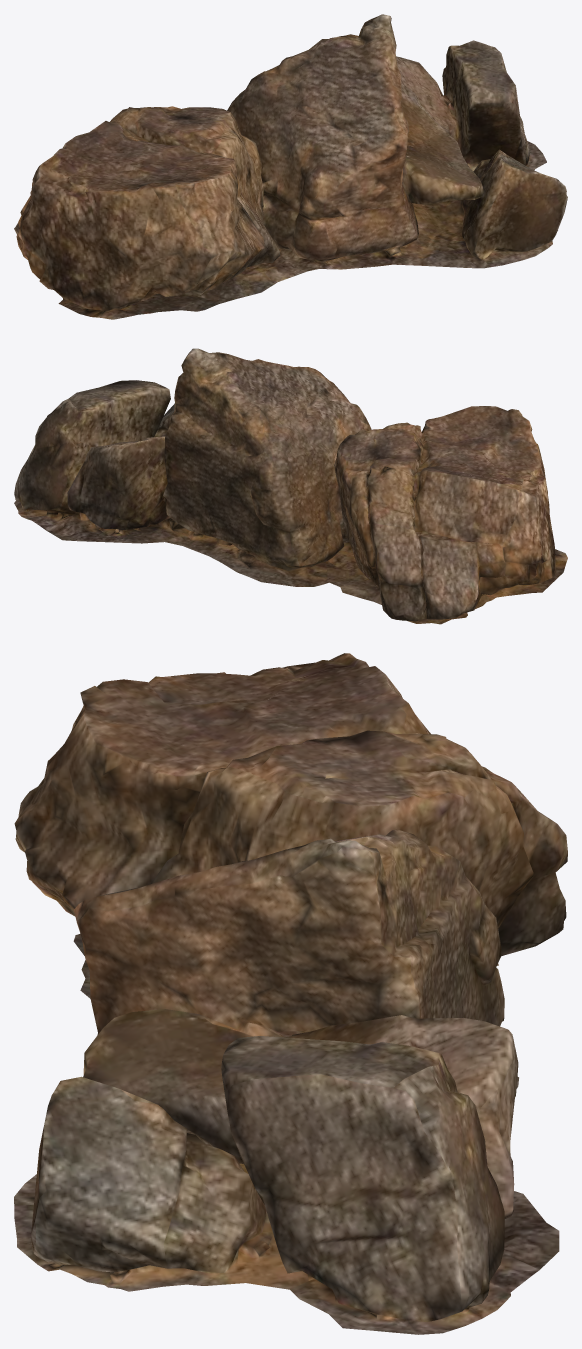
The model's file is namaqualand_boulder_02.glb.
3 views of the same model, one above another, from view 1: azimuth 30°, elevation 25°; view 2: azimuth 150°, elevation 25°; view 3: azimuth 270°, elevation 25° (orthographic). The views are drawn at different scales.
Parts seen in each view (by area): view 1: boulder_02; view 2: boulder_02; view 3: boulder_02.
Boxes of the visible parts, box(x1,y1,x2,y2) form: boulder_02: box(14, 14, 567, 319); boulder_02: box(14, 348, 567, 624); boulder_02: box(14, 653, 567, 1334).
Size of the model in its own units: 2.53 by 0.8805 by 1.23.
Materials: 1 (1 with a texture image).
